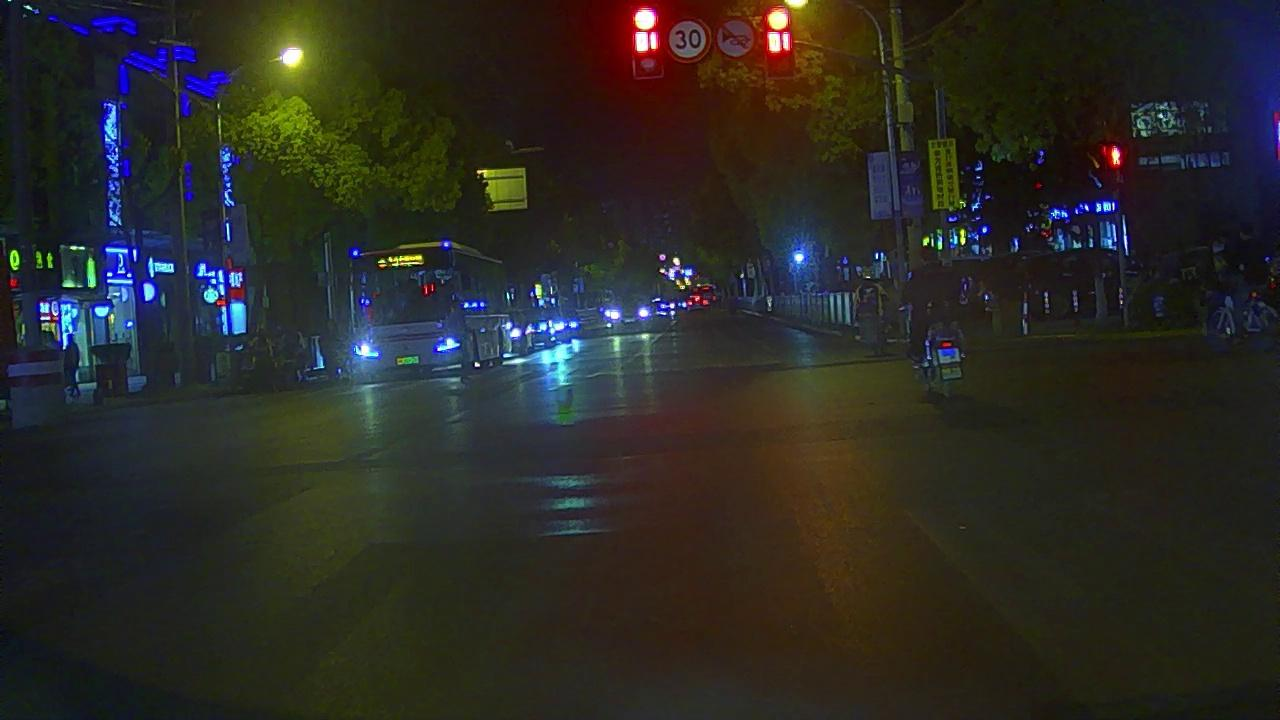traffic_light: (763, 5, 794, 77), (632, 6, 661, 77)
